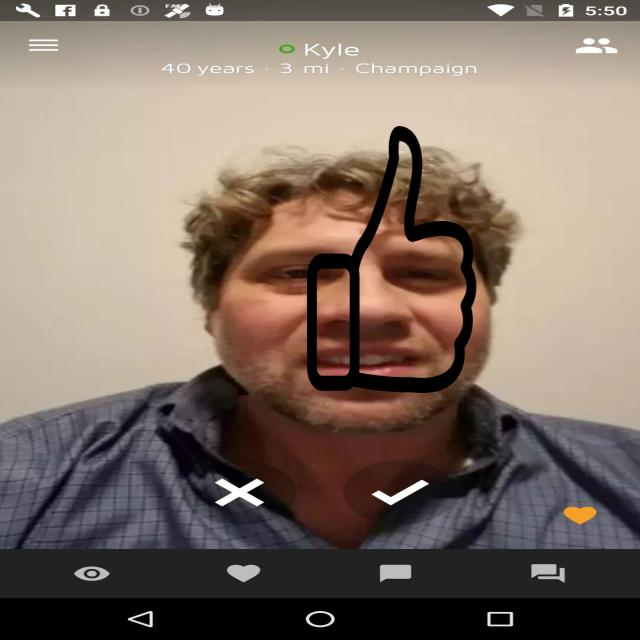privacy zuckering: (304, 126, 478, 393)
